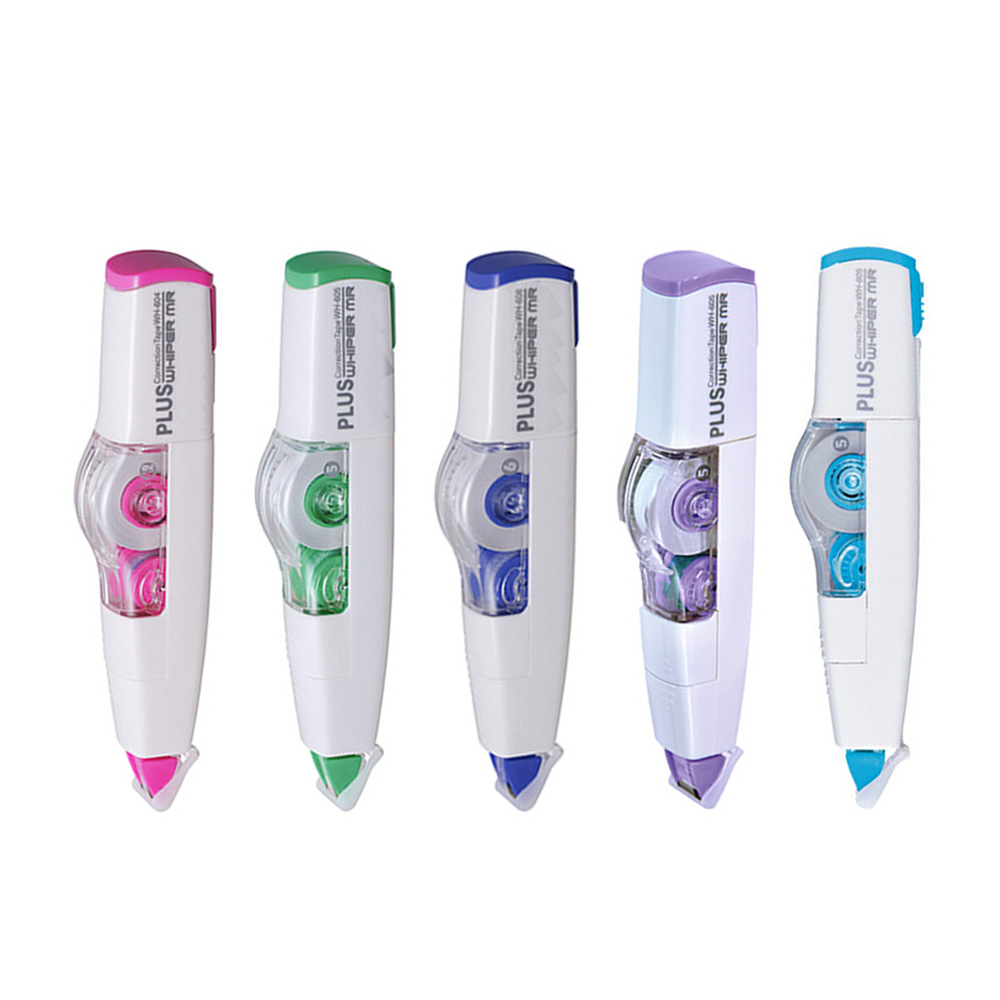correction tape: (435, 251, 582, 812), (70, 250, 214, 810), (255, 250, 398, 811), (618, 249, 758, 809), (788, 248, 925, 810)
